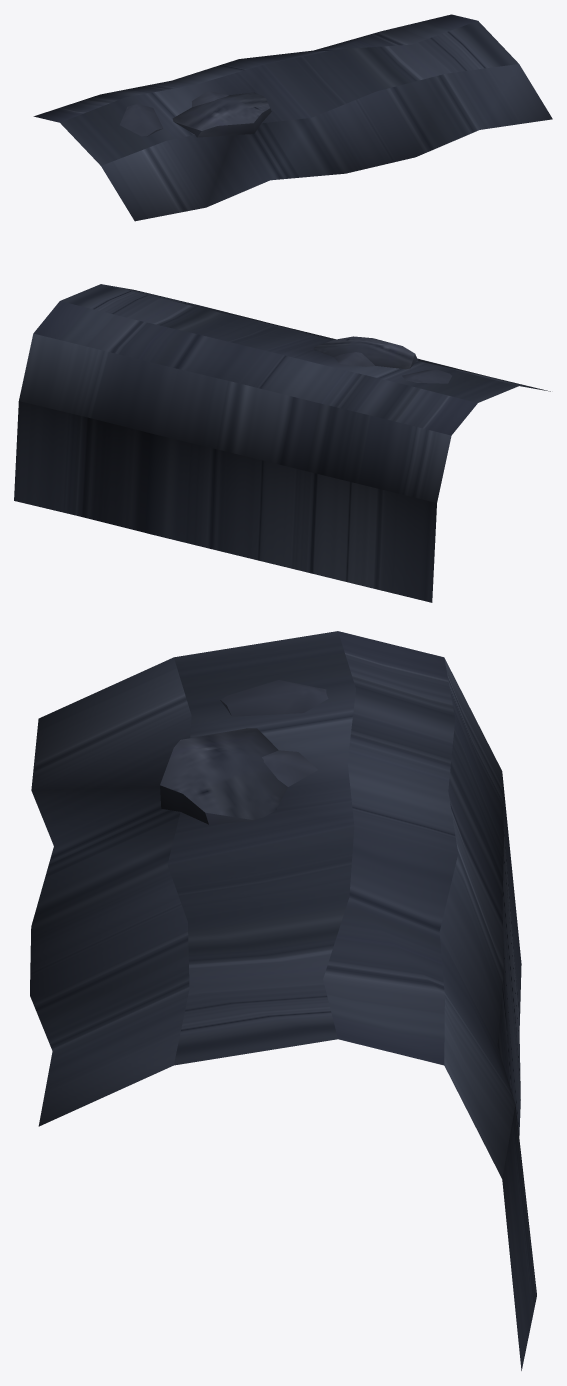
Rendered from cave_pool_rim.glb.
3 views of the same model, one above another, from view 1: azimuth 30°, elevation 25°; view 2: azimuth 150°, elevation 25°; view 3: azimuth 270°, elevation 25° (orthographic). The views are drawn at different scales.
Parts seen in each view (by area): view 1: cave_pool_rim; view 2: cave_pool_rim; view 3: cave_pool_rim.
Boxes of the visible parts, box(x1,y1,x2,y2) form: cave_pool_rim: box(33, 14, 552, 221); cave_pool_rim: box(14, 284, 550, 602); cave_pool_rim: box(30, 631, 536, 1370).
Bounding box in the file's own units: 1 × 0.3967 × 0.5252.
Materials: 1 (1 with a texture image).
